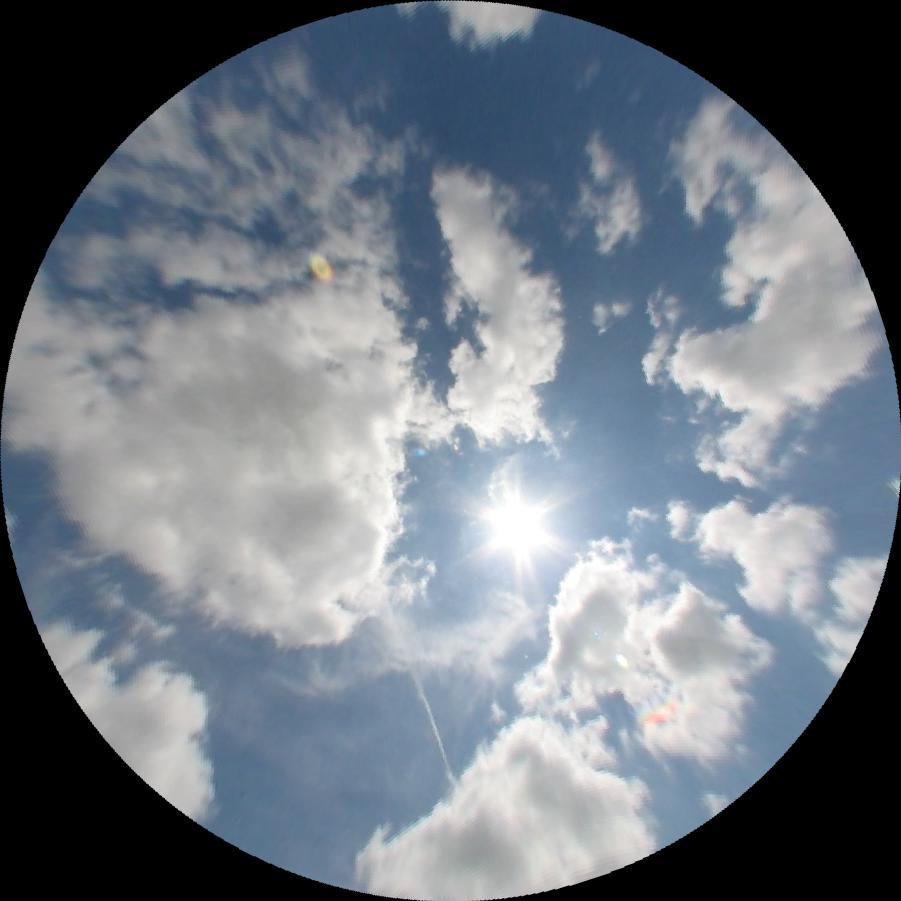contrail old: (388, 612, 459, 786)
sun: (486, 495, 555, 559)
